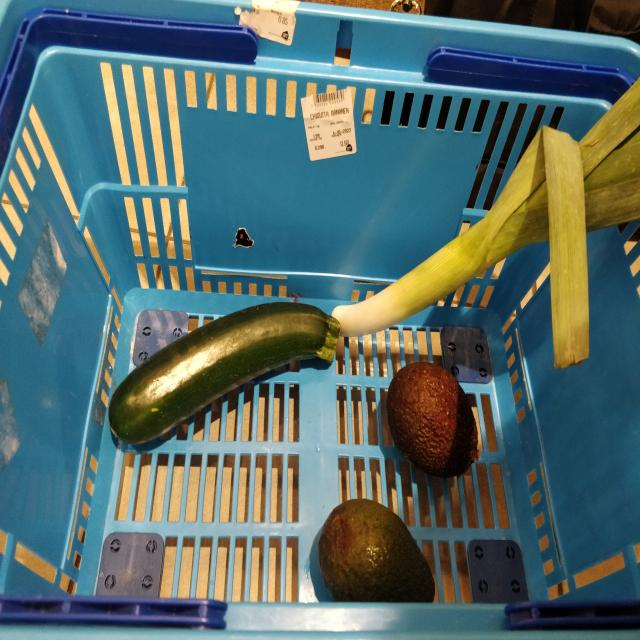Avocado: (311, 500, 436, 604), (386, 360, 480, 480)
